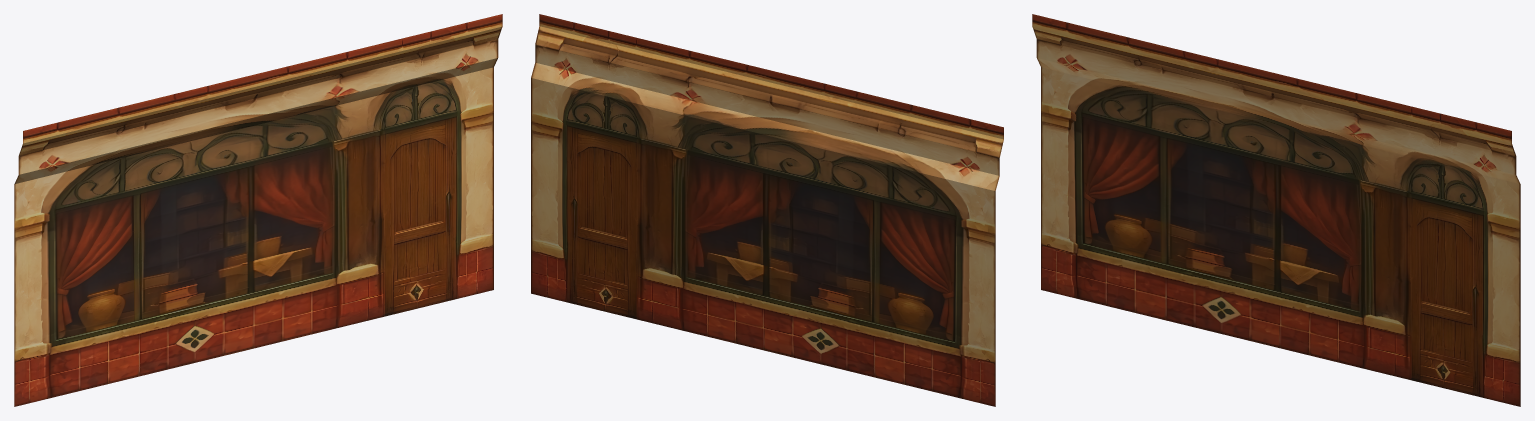
File: SPN_G_Bay8A.fbx
3 renders of one model, left to right at view 1: azimuth 30°, elevation 25°; view 2: azimuth 150°, elevation 25°; view 3: azimuth 330°, elevation 25°, orthographic. The views are drawn at different scales.
Parts seen in each view (by area): view 1: SPN_G_Bay8A; view 2: SPN_G_Bay8A; view 3: SPN_G_Bay8A.
Boxes of the visible parts, bbox=[...] form: SPN_G_Bay8A: bbox=[14, 14, 502, 406]; SPN_G_Bay8A: bbox=[531, 14, 1003, 406]; SPN_G_Bay8A: bbox=[1032, 14, 1520, 406].
Size of the model in its own units: 8 by 0.25 by 4.5.
1 material, 1 textured.
